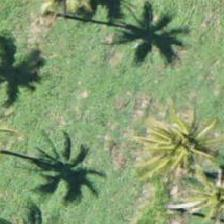coconut_tree: (133, 101, 223, 191), (169, 157, 223, 223)
